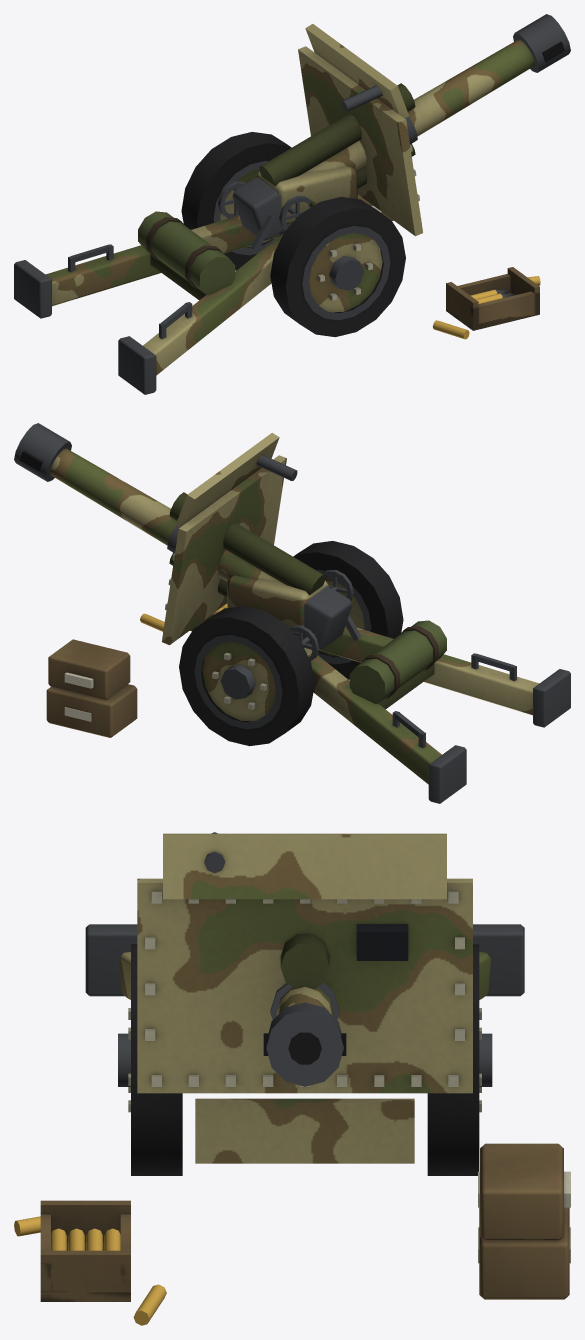
The model's file is howitzer.glb.
The picture shows the model from 3 angles, top to bottom: view 1: azimuth 30°, elevation 25°; view 2: azimuth 150°, elevation 25°; view 3: azimuth 270°, elevation 25°; orthographic projection. The views are drawn at different scales.
Visible parts, largest first — view 1: trail; view 2: trail; view 3: trail.
Part boxes in pixels (left/top/right/bottom): trail: left=14, top=14, right=570, bottom=394; trail: left=14, top=423, right=570, bottom=803; trail: left=14, top=832, right=570, bottom=1325.
Bounding box in the file's own units: 0.7264 × 0.3255 × 0.4316.
3 materials, 1 textured.
